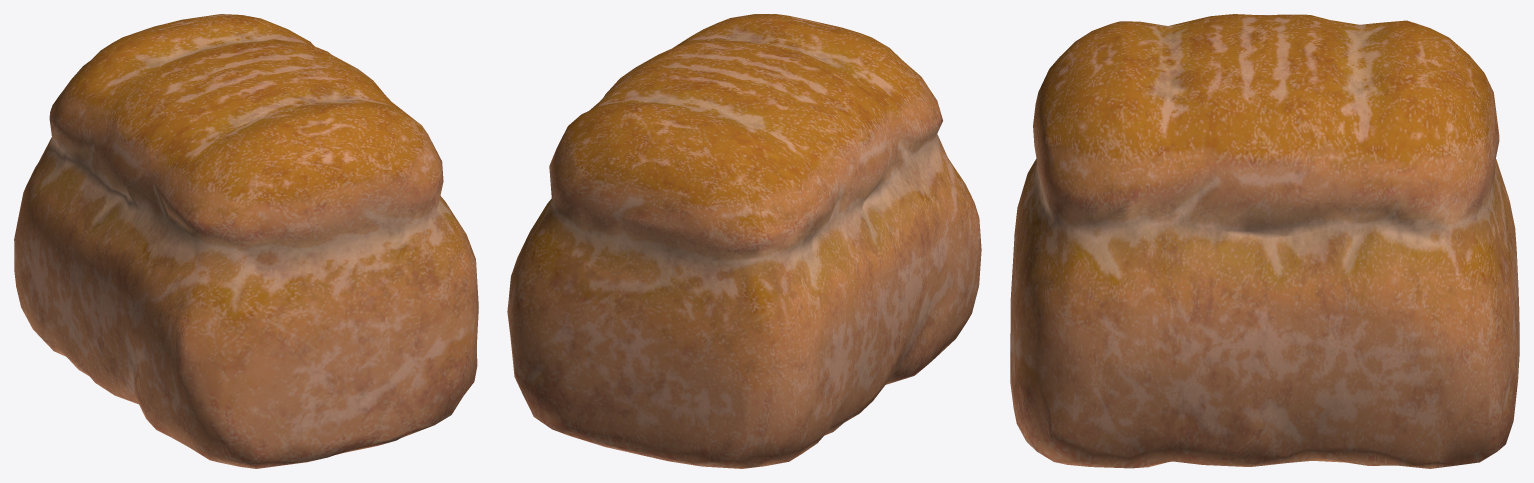
File: Bread_15_bread6_c_mesh.obj
3 views of the same model, side by side, from view 1: azimuth 30°, elevation 25°; view 2: azimuth 150°, elevation 25°; view 3: azimuth 270°, elevation 25° (orthographic). The views are drawn at different scales.
Bounding box in the file's own units: 0.1747 × 0.1685 × 0.2145.
